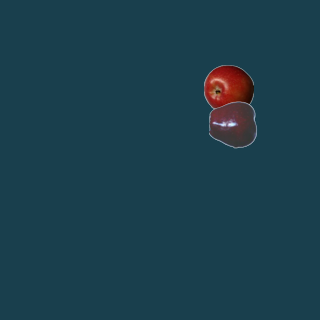Apple Braeburn: (203, 64, 253, 114)
Apple Red Delicious: (208, 99, 258, 149)
